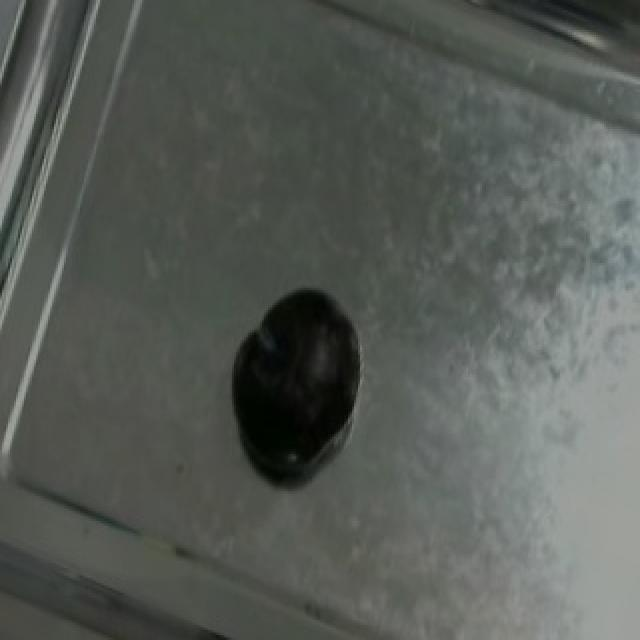Fruit: (214, 270, 364, 482)
